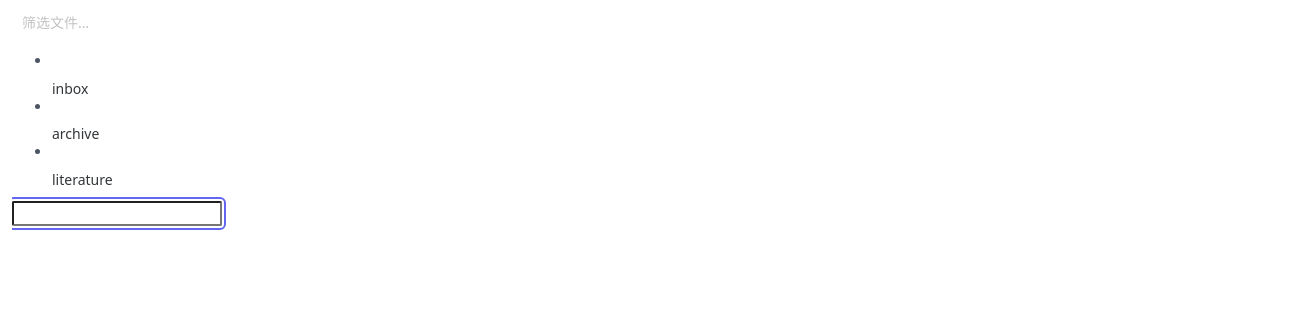
Test: FileTree › gives an explicitly clicked row DOM focus and keeps logical focus in sync
Click the element with class "row-line" showing "inbox" at (70, 89), box [52, 82, 88, 96]
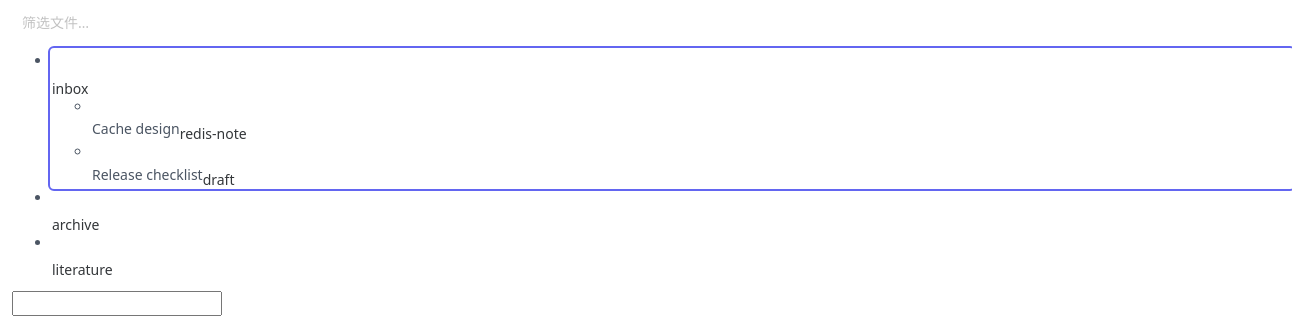
Expected: the list item "inbox Cache design redis-note Release checklist draft" is expanded, [52, 82, 247, 187]
